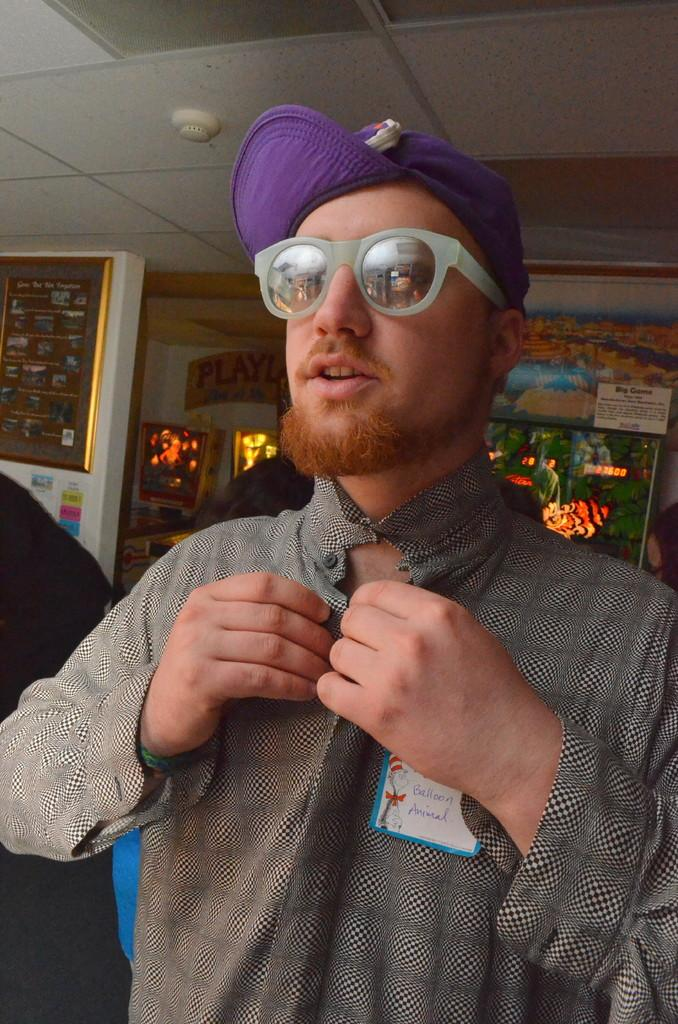Hat: (229, 106, 523, 302)
